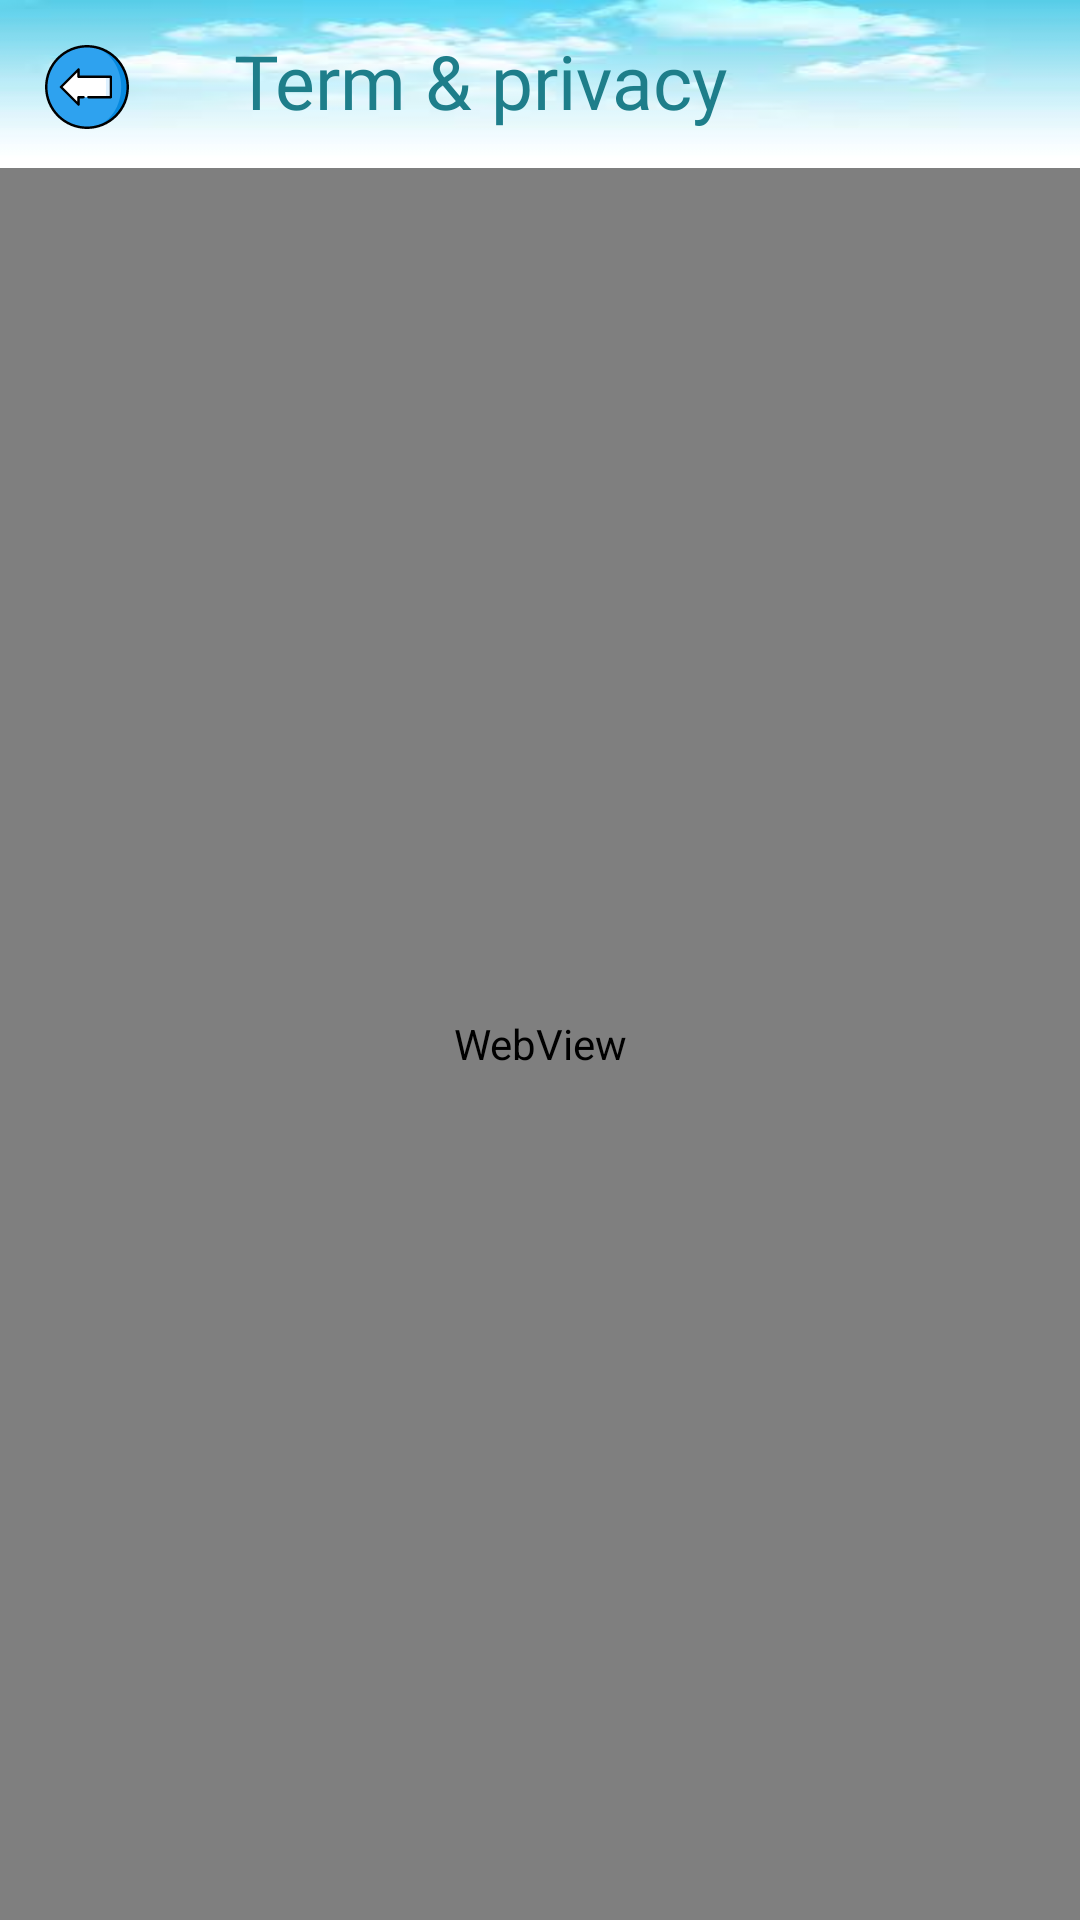

Screen size 1080px x 1920px. Icon name, then its center in pixels as (x=x, y=y):
back arrow: (x=87, y=87)
